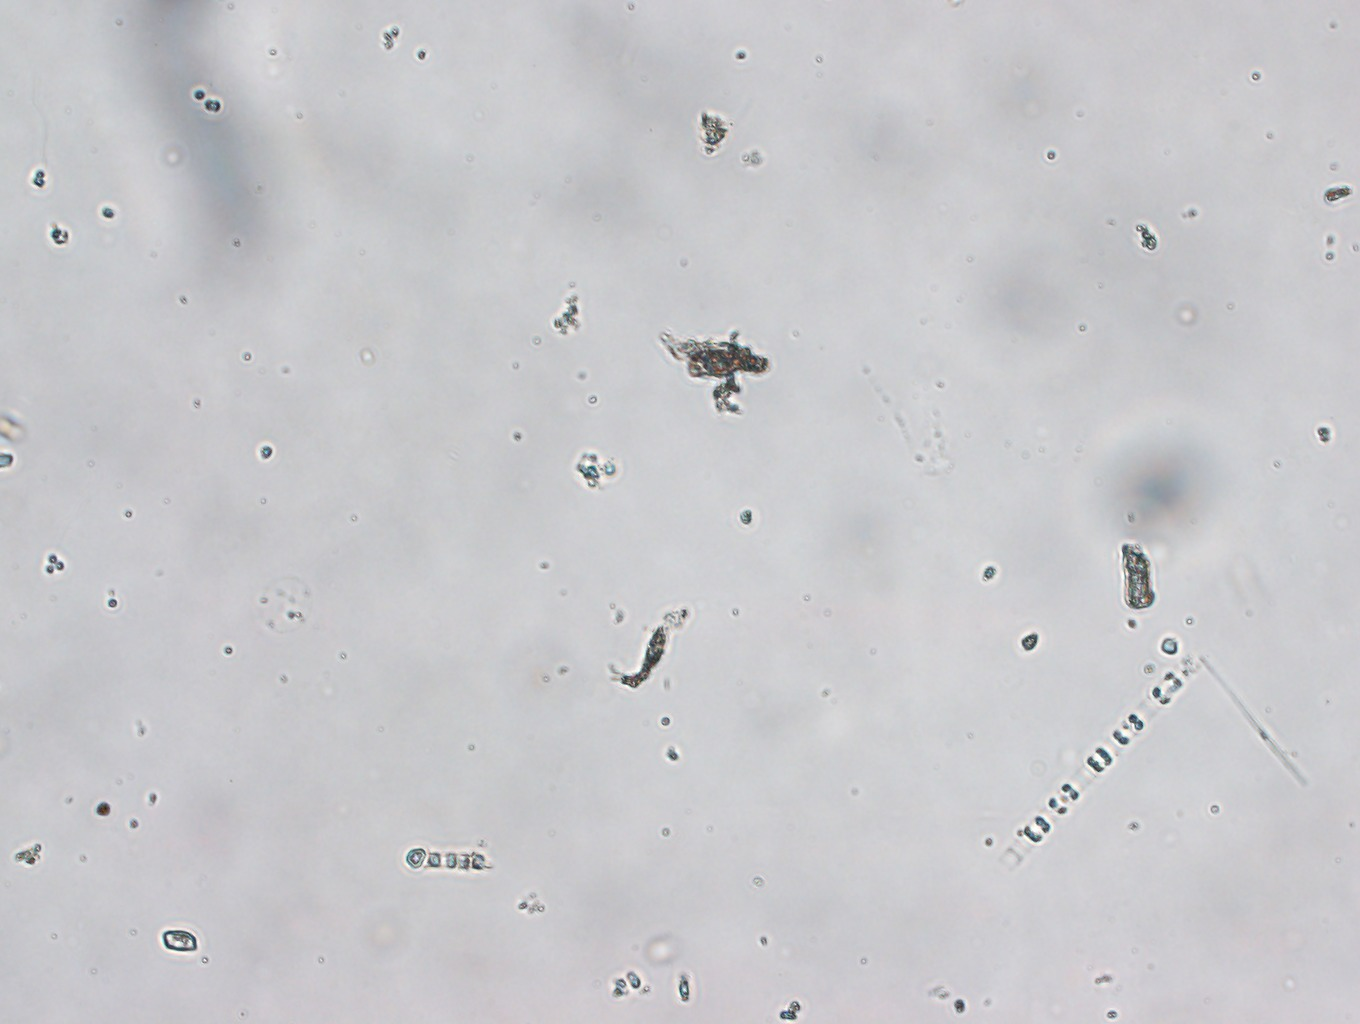skeletonema: (997, 648, 1217, 888)
